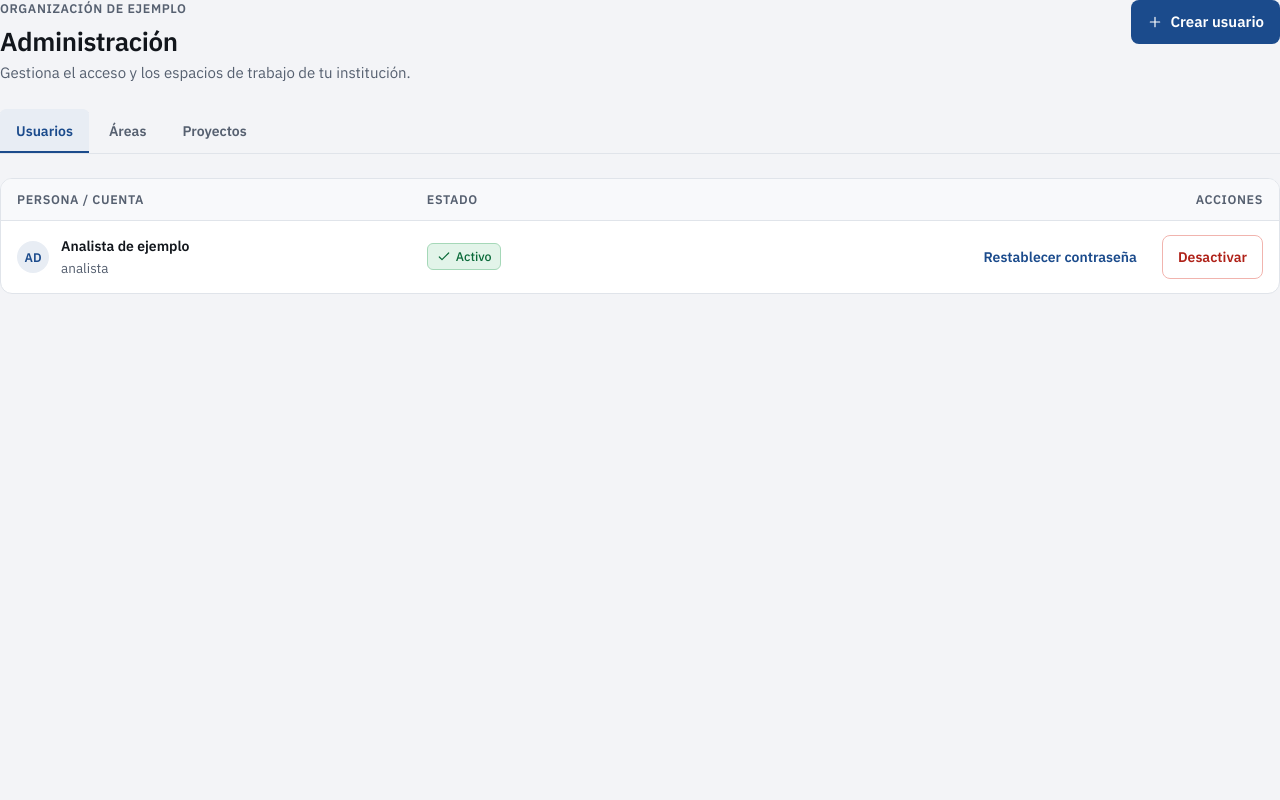
Test: la acción de cada cuenta dice qué hace y a quién: restablecer su contraseña
The width and height of the screenshot is (1280, 800).
Click the button with aria-label "Restablecer contraseña de Analista de ejemplo". click: {"x": 1060, "y": 257}
box: [968,235,1153,279]
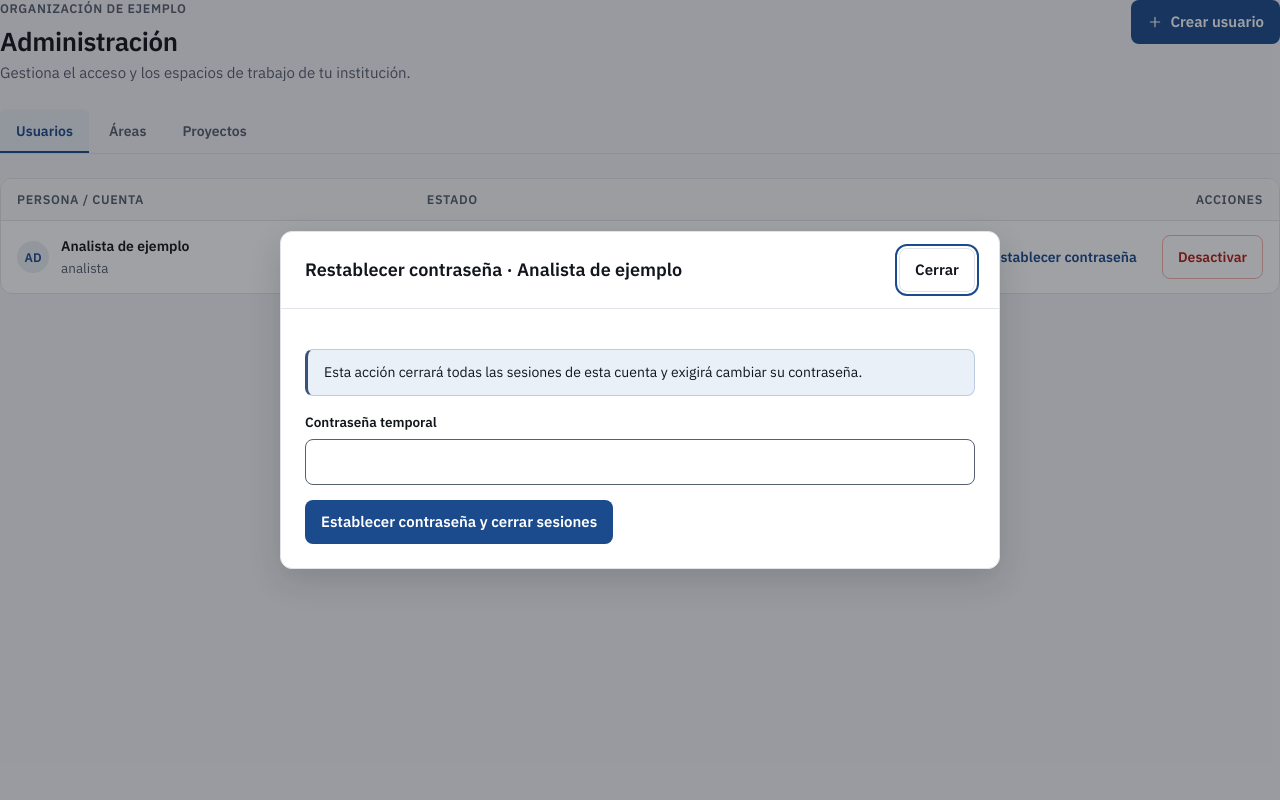
Expected: the dialog "Restablecer contraseña · Analista de ejemplo" is shown, [280,231,1000,569]
